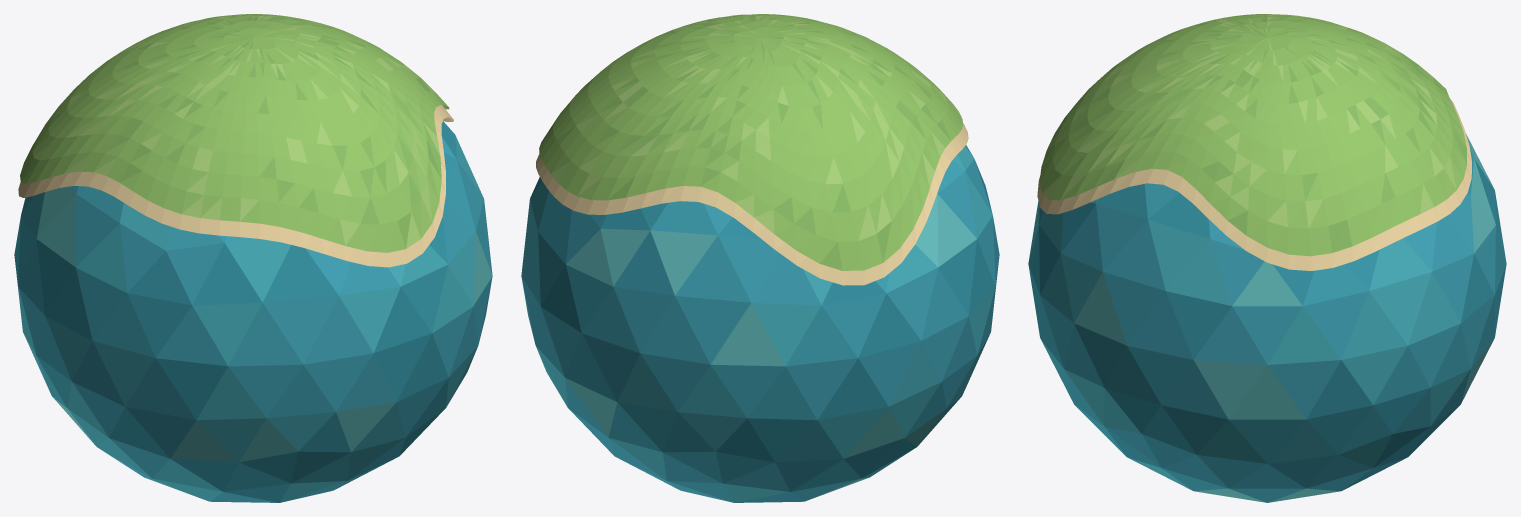
File: planet.glb
3 renders of one model, left to right at view 1: azimuth 30°, elevation 25°; view 2: azimuth 150°, elevation 25°; view 3: azimuth 270°, elevation 25°, orthographic.
Parts seen in each view (by area): view 1: Ocean, Living land, Sand coast; view 2: Ocean, Living land, Sand coast; view 3: Ocean, Living land, Sand coast.
Boxes of the visible parts, left/top/right/bottom form: Ocean: left=14, top=121, right=492, bottom=502; Living land: left=20, top=14, right=449, bottom=252; Sand coast: left=18, top=105, right=453, bottom=267; Ocean: left=521, top=145, right=999, bottom=502; Living land: left=539, top=14, right=963, bottom=270; Sand coast: left=536, top=123, right=968, bottom=285; Ocean: left=1028, top=134, right=1506, bottom=502; Living land: left=1039, top=14, right=1467, bottom=256; Sand coast: left=1037, top=100, right=1471, bottom=270.
Size of the model in its own units: 9.2 by 9.41 by 9.2.
